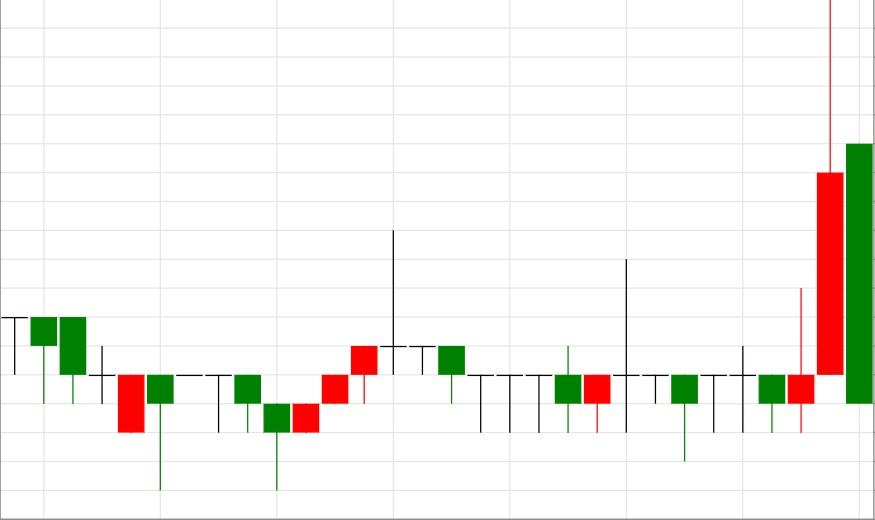three_white_soldiers_rise: (0, 315, 379, 490)
